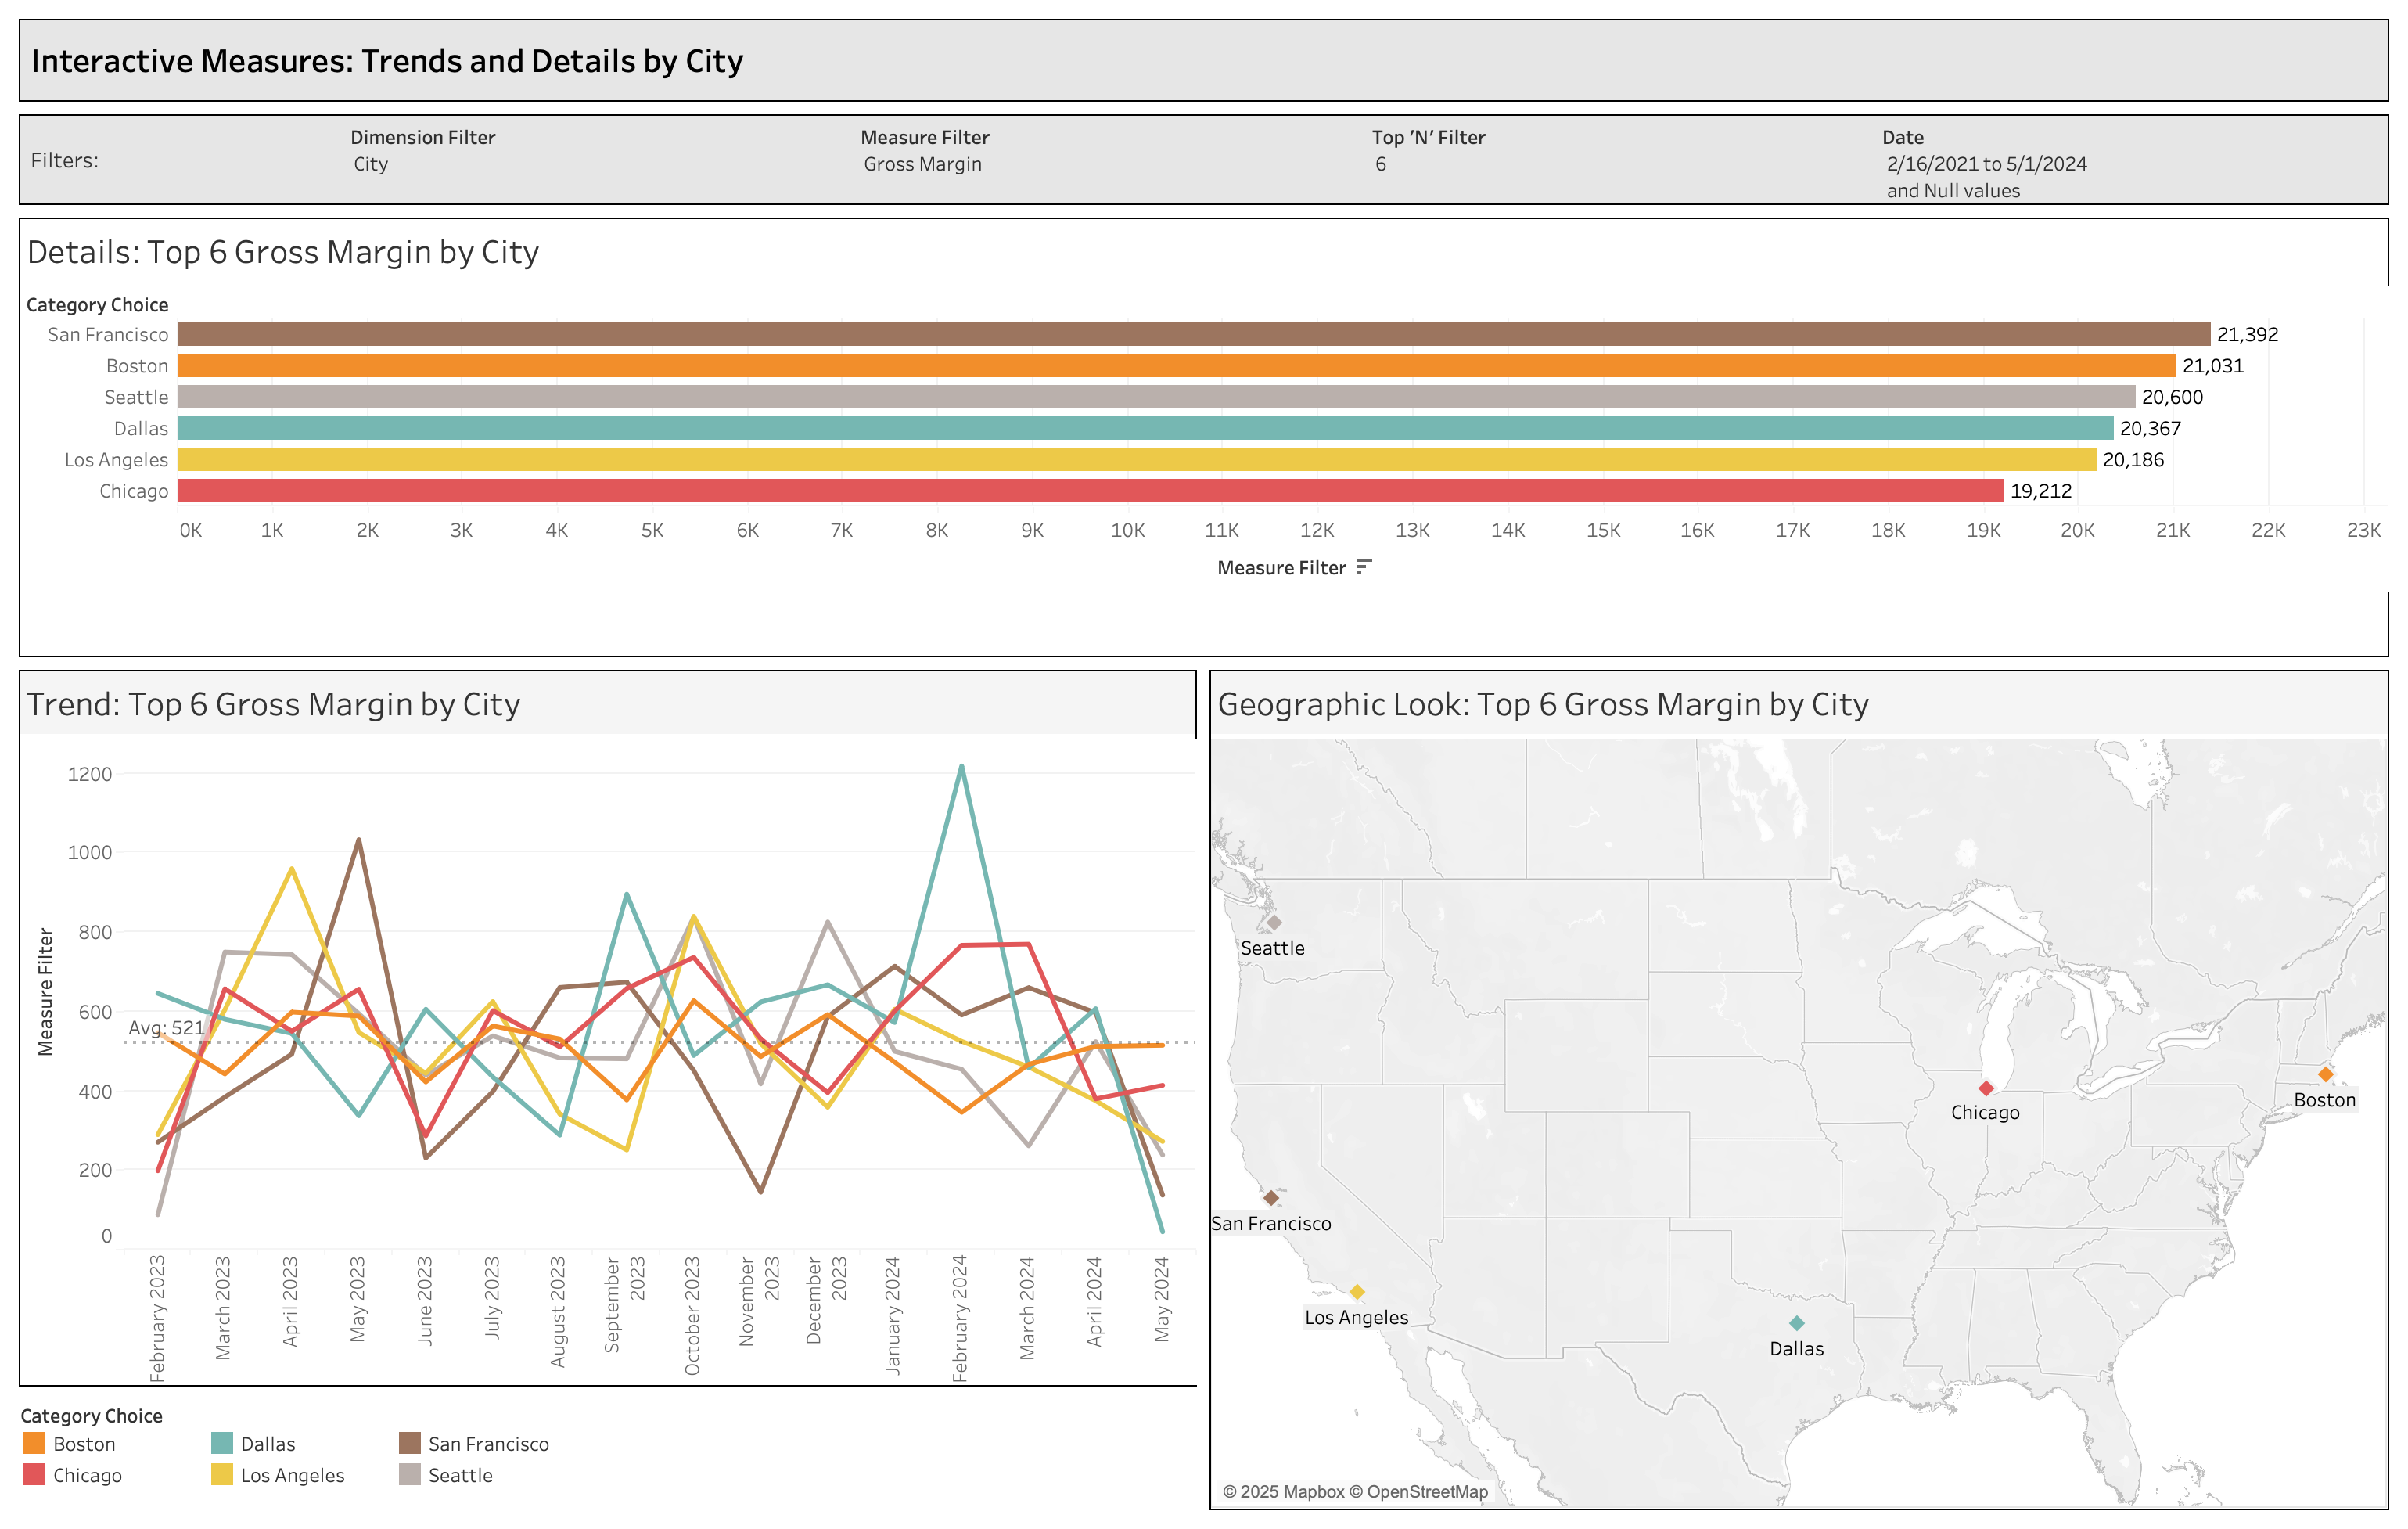

This screenshot's page, from the dashboard's own definition file:
{"tool":"tableau","page":{"name":"Geography View","canvas":[1000,1000],"units":"permille","ordinal":1},"visuals":[{"type":"text","box":[9,13.3,982.1,52.2]},{"type":"text","box":[9,75.7,130.2,57.3]},{"type":"parameter","param":"[Parameters].[Parameter 1]","box":[139.2,75.7,213,57.3]},{"type":"parameter","param":"[Parameters].[Parameter 2]","box":[352.1,75.7,213,57.3]},{"type":"parameter","param":"[Parameters].[Parameter 3]","box":[565.1,75.7,213,57.3]},{"type":"filter","title":"Top N Filter Items (2)","param":"[federated.1e12xzg1ccuvow15y8nao0qu67pe].[none:Calculation_2317242772280463361:q","box":[778.1,75.7,213,57.3]},{"type":"worksheet","title":"Top N Filter Items (2)","mark":"Automatic","rows":["Calculation_1620169992236359684"],"cols":["Calculation_1620169992236982277"],"box":[5.5,138.2,989,295.8]},{"type":"worksheet","title":"Dynamic Trend","mark":"Automatic","rows":["Calculation_1620169992236982277"],"cols":["Date"],"box":[5.5,434,494.5,476.6]},{"type":"worksheet","title":"Geographic Look","mark":"Shape","box":[500,434,494.5,557.9]},{"type":"legend","title":"Dynamic Trend","param":"[federated.1e12xzg1ccuvow15y8nao0qu67pe].[none:Calculation_1620169992236359684:n","box":[5.5,910.6,494.5,81.2]}]}

Visuals, with their boxes on the dashboard's canvas, which has no fixed pixel size, in thousandths of its width and height (x1, y1, x2, y2). These are canvas units, not pixel positions in the 2408x1529 screenshot, which may show the page scaled, cropped or inside an application window:
text: {"left": 9, "top": 13, "right": 991, "bottom": 66}
text: {"left": 9, "top": 76, "right": 139, "bottom": 133}
parameter: {"left": 139, "top": 76, "right": 352, "bottom": 133}
parameter: {"left": 352, "top": 76, "right": 565, "bottom": 133}
parameter: {"left": 565, "top": 76, "right": 778, "bottom": 133}
"Top N Filter Items (2)" filter: {"left": 778, "top": 76, "right": 991, "bottom": 133}
"Top N Filter Items (2)" worksheet: {"left": 6, "top": 138, "right": 994, "bottom": 434}
"Dynamic Trend" worksheet: {"left": 6, "top": 434, "right": 500, "bottom": 911}
"Geographic Look" worksheet (Shape marks): {"left": 500, "top": 434, "right": 994, "bottom": 992}
"Dynamic Trend" legend: {"left": 6, "top": 911, "right": 500, "bottom": 992}
